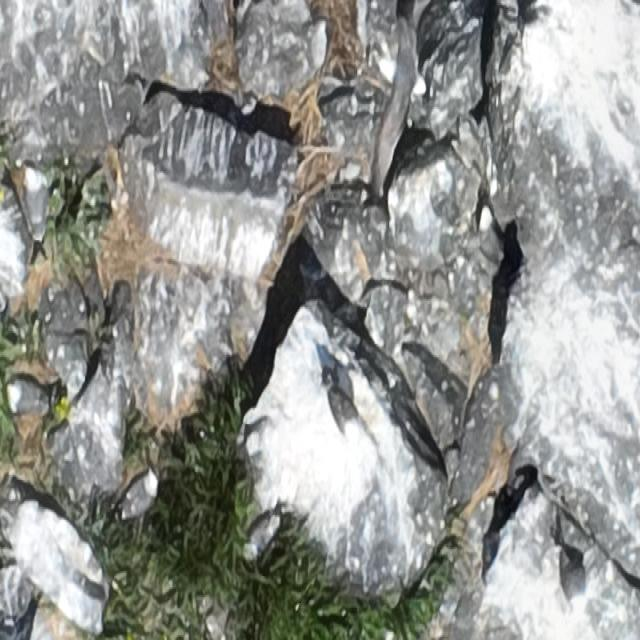F: (377, 27, 427, 172)
umineko: (328, 378, 361, 447), (561, 542, 586, 615), (7, 374, 47, 416), (124, 473, 158, 513)
